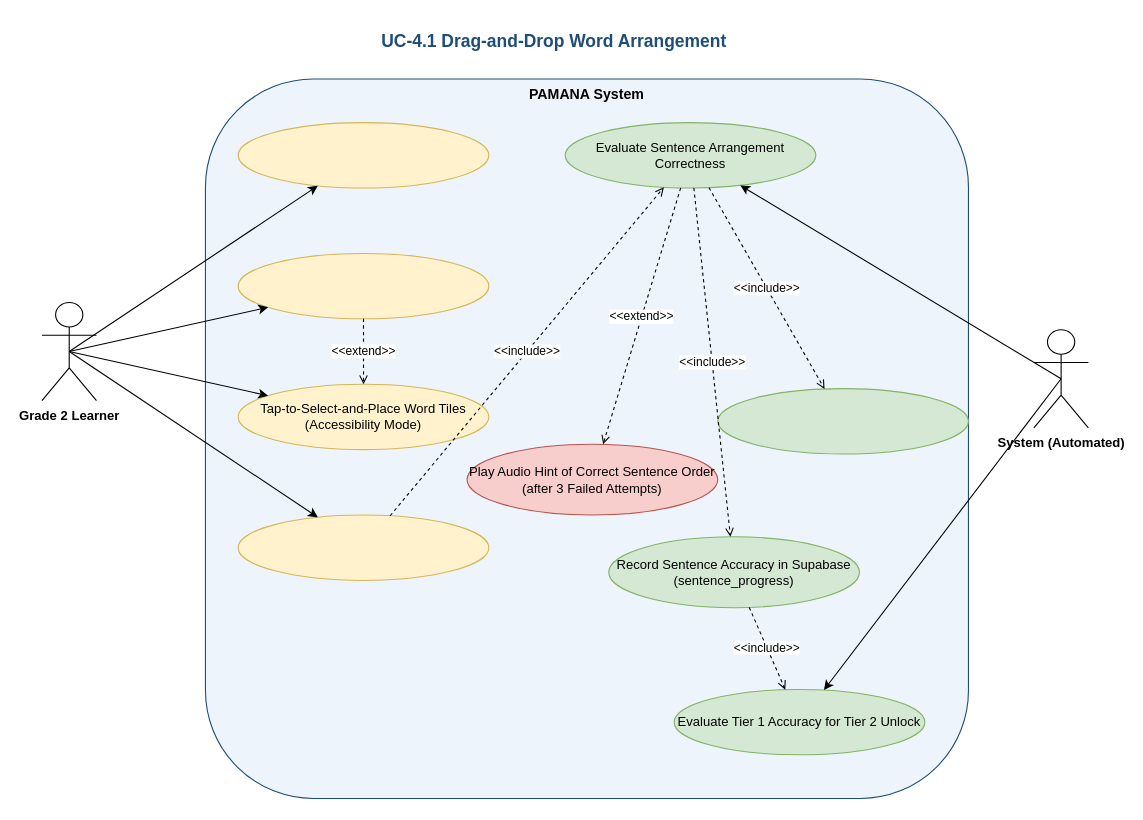
The diagram is 1143 pixels wide and 820 high, and some of its shapes have lost their labels. Each missing label, with the box of its shape:
Deliver Visual and Audio Feedback (within ≤0.3 sec): (717, 387, 968, 454)
Drag and Place Word Tiles into Sentence Slot: (237, 252, 489, 319)
Submit Sentence Arrangement: (237, 514, 489, 580)
View Drag-and-Drop Word Arrangement Task: (237, 122, 489, 188)
